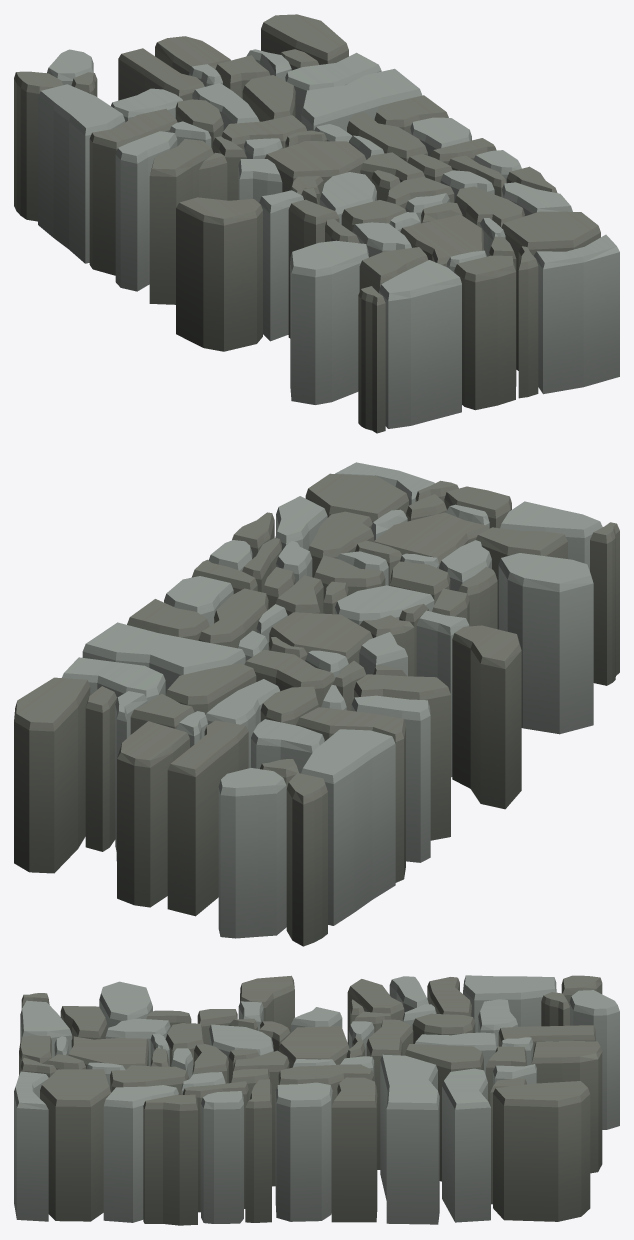
The model's file is ZLP_Road_B_3.FBX.
3 views of the same model, one above another, from view 1: azimuth 30°, elevation 25°; view 2: azimuth 150°, elevation 25°; view 3: azimuth 270°, elevation 25° (orthographic). The views are drawn at different scales.
Parts seen in each view (by area): view 1: ZLP_Road_B_3; view 2: ZLP_Road_B_3; view 3: ZLP_Road_B_3.
Part boxes in pixels (left/top/right/bottom): ZLP_Road_B_3: left=14, top=14, right=619, bottom=433; ZLP_Road_B_3: left=14, top=462, right=619, bottom=946; ZLP_Road_B_3: left=14, top=975, right=619, bottom=1225.
Bounding box in the file's own units: 372 × 158 × 721.
